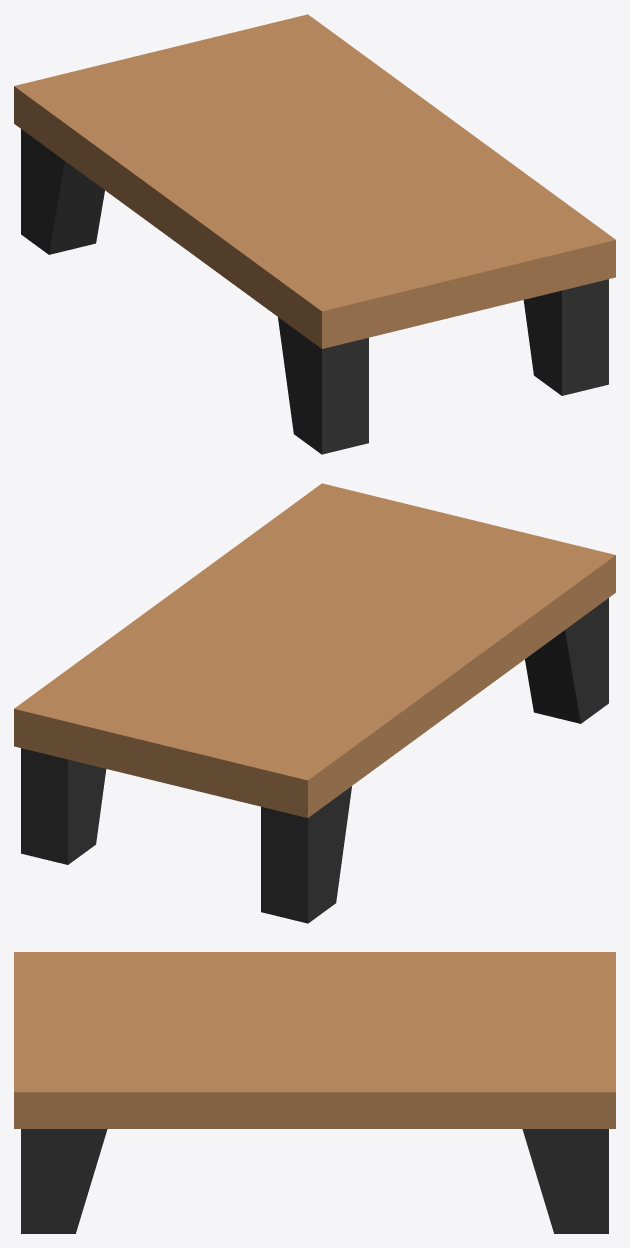
File: table.fbx
3 views of the same model, one above another, from view 1: azimuth 30°, elevation 25°; view 2: azimuth 150°, elevation 25°; view 3: azimuth 270°, elevation 25° (orthographic). The views are drawn at different scales.
Parts seen in each view (by area): view 1: table; view 2: table; view 3: table.
Boxes of the visible parts, x1,y1,x2,y2 form: table: [14, 14, 615, 454]; table: [14, 483, 615, 923]; table: [14, 952, 615, 1233].
Size of the model in its own units: 1144 by 545 by 2076.
